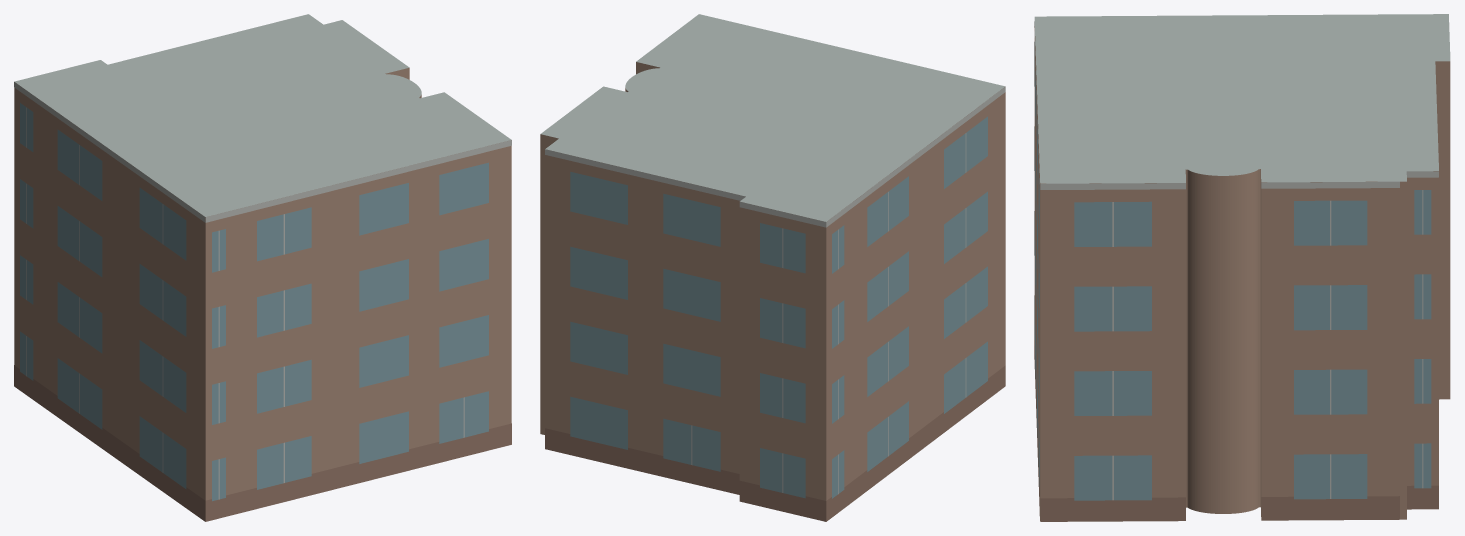
Rendered from survey-upis-32858992.glb.
3 views of the same model, side by side, from view 1: azimuth 30°, elevation 25°; view 2: azimuth 150°, elevation 25°; view 3: azimuth 270°, elevation 25° (orthographic). The views are drawn at different scales.
Parts seen in each view (by area): view 1: survey-upis-32858992.tmp; view 2: survey-upis-32858992.tmp; view 3: survey-upis-32858992.tmp.
Part boxes in pixels (left/top/right/bottom): survey-upis-32858992.tmp: left=14, top=14, right=511, bottom=521; survey-upis-32858992.tmp: left=540, top=14, right=1005, bottom=521; survey-upis-32858992.tmp: left=1034, top=14, right=1450, bottom=521.
Bounding box in the file's own units: 13.9 × 12.9 × 14.4.
